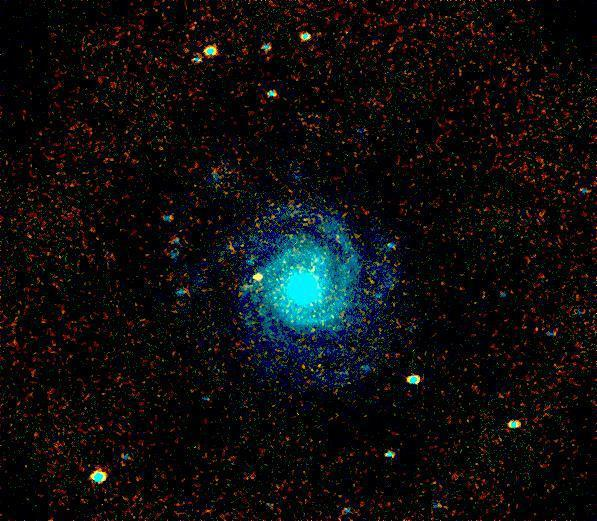star: (243, 259, 273, 289)
